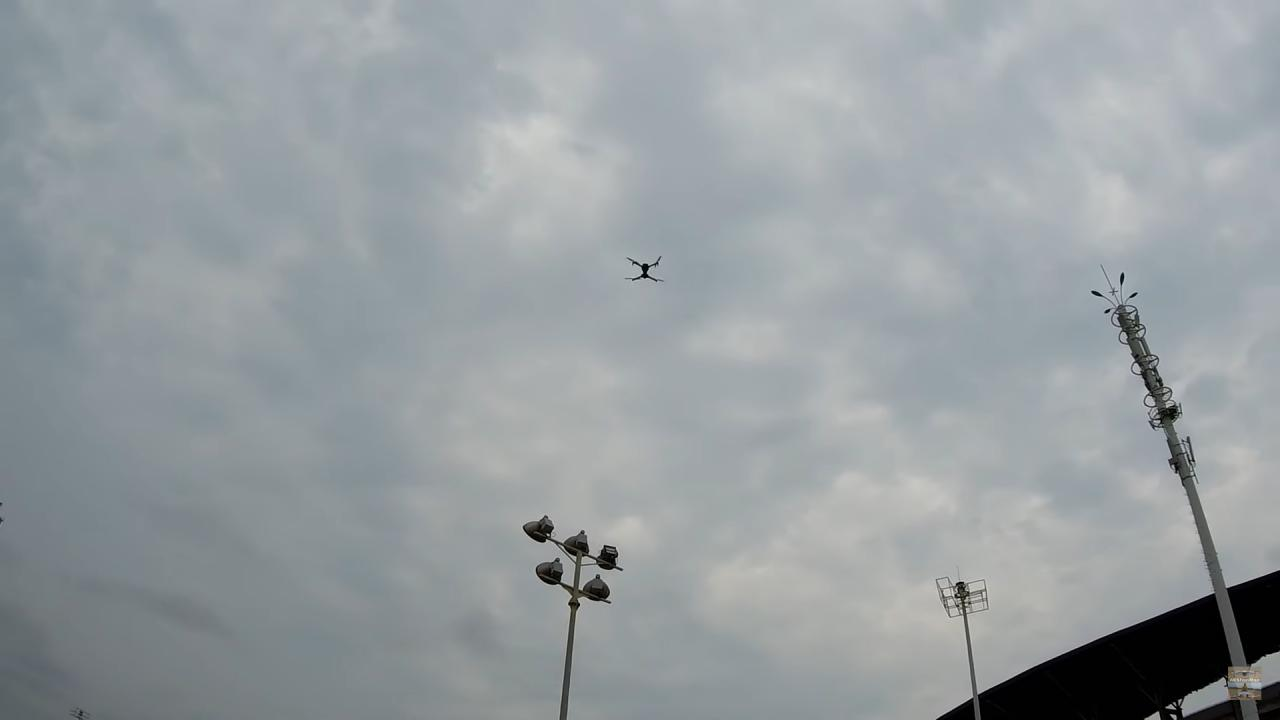Drone: (616, 245, 674, 295)
